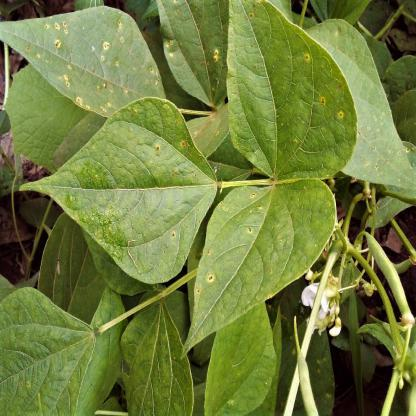Beans_Rust: (26, 99, 214, 282), (187, 178, 331, 365), (226, 0, 360, 185), (0, 0, 167, 118), (310, 34, 416, 187), (154, 0, 236, 110)
